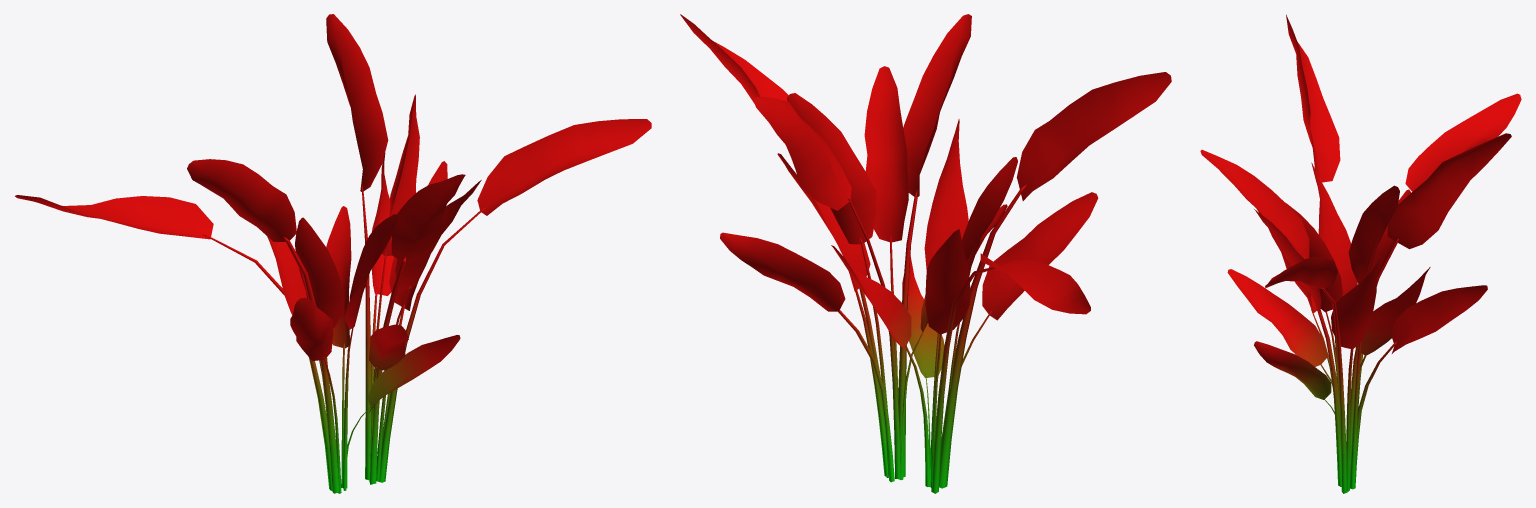
Rendered from Bird Of Paradise_LOD4_Var9_wfypeifha.fbx.
The picture shows the model from 3 angles, left to right: view 1: azimuth 30°, elevation 25°; view 2: azimuth 150°, elevation 25°; view 3: azimuth 270°, elevation 25°; orthographic projection. The views are drawn at different scales.
Visible parts, largest first — view 1: _j689_Var9_LOD4; view 2: _j689_Var9_LOD4; view 3: _j689_Var9_LOD4.
Boxes of the visible parts, box(x1,y1,x2,y2) form: _j689_Var9_LOD4: box(15, 14, 651, 493); _j689_Var9_LOD4: box(680, 14, 1171, 493); _j689_Var9_LOD4: box(1200, 14, 1521, 493).
Size of the model in its own units: 173 by 130 by 100.
